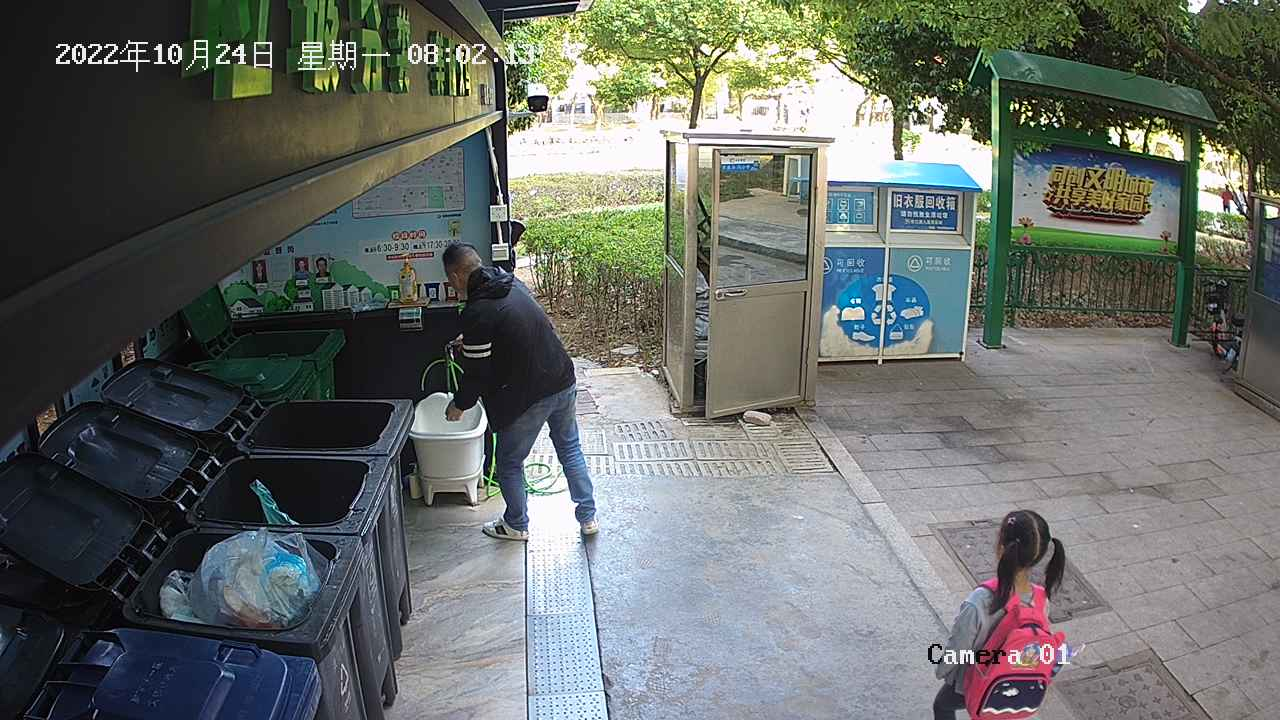person: (437, 240, 603, 545), (928, 506, 1074, 720)
